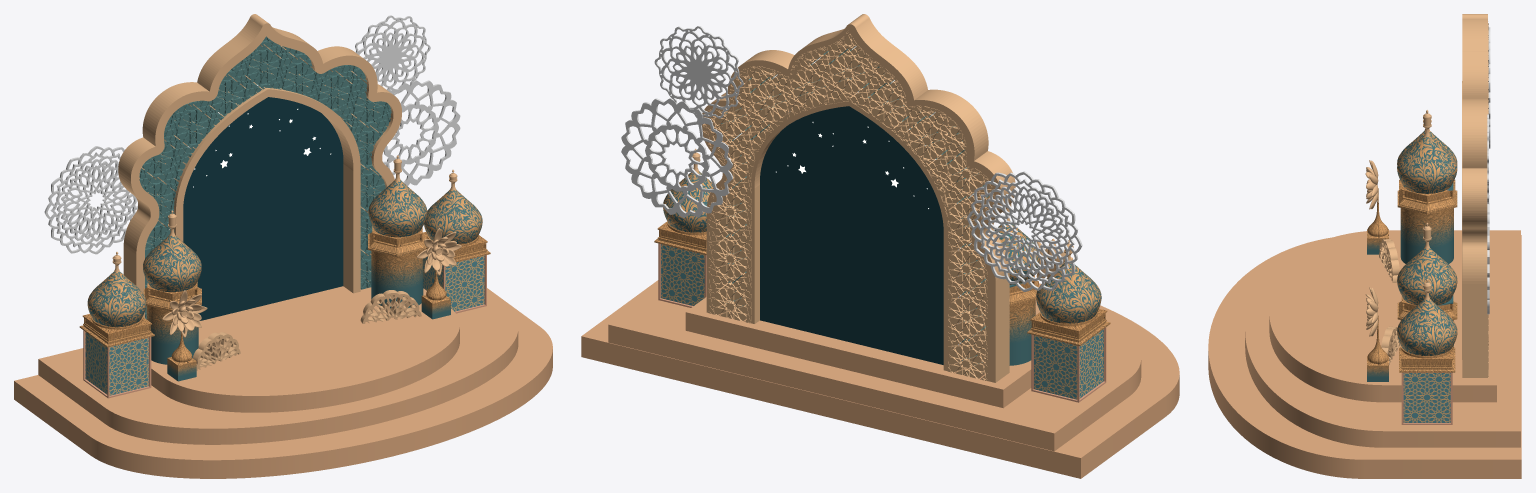
Rendered from ramadan_stage.glb.
3 renders of one model, left to right at view 1: azimuth 30°, elevation 25°; view 2: azimuth 150°, elevation 25°; view 3: azimuth 270°, elevation 25°, orthographic. The views are drawn at different scales.
Parts seen in each view (by area): view 1: Object_23, Circle.001_13, Circle.008_25, Circle.003_20, Object_14, Object_15, Plane.002_23, Object_16, Circle.002_19, Curve.006_10, Circle.004_17, Circle.006_21 (+5 smaller); view 2: Object_23, Circle.003_20, Object_17, Circle.008_25, Object_14, Object_18, Circle.001_13, Plane.002_23, Curve.006_10, Curve.007_11, Curve.009_12, Circle.006_21 (+3 smaller); view 3: Circle.003_20, Circle.001_13, Circle.008_25, Object_14, Circle.004_17, Circle.002_19, Plane.002_23, Circle.006_21, Plane.003_27, Curve.004_9, Object_43, Curve.007_11.
Part boxes in pixels (x1,y1,x2,y2): Object_23: (183, 97, 343, 320); Circle.001_13: (151, 280, 459, 412); Circle.008_25: (14, 288, 552, 478); Circle.003_20: (38, 295, 518, 444); Object_14: (118, 14, 401, 317); Object_15: (139, 36, 391, 319); Plane.002_23: (79, 232, 490, 398); Object_16: (140, 38, 391, 289); Circle.002_19: (143, 226, 426, 364); Curve.006_10: (44, 146, 137, 254); Circle.004_17: (143, 180, 427, 292); Circle.006_21: (87, 189, 482, 327); Object_23: (760, 106, 943, 364); Circle.003_20: (608, 288, 1141, 451); Object_17: (702, 32, 994, 379); Circle.008_25: (581, 280, 1179, 478); Object_14: (702, 14, 1015, 382); Object_18: (707, 43, 993, 380); Circle.001_13: (685, 286, 1039, 408); Plane.002_23: (654, 221, 1110, 402); Curve.006_10: (967, 171, 1082, 291); Curve.007_11: (621, 98, 732, 217); Curve.009_12: (654, 26, 743, 118); Circle.006_21: (663, 171, 1101, 323); Circle.003_20: (1245, 230, 1520, 447); Circle.001_13: (1269, 242, 1496, 402); Circle.008_25: (1208, 235, 1521, 478); Object_14: (1462, 14, 1487, 377); Circle.004_17: (1397, 135, 1457, 305); Circle.002_19: (1397, 182, 1457, 347); Plane.002_23: (1399, 179, 1455, 424); Circle.006_21: (1397, 131, 1457, 355); Plane.003_27: (1367, 188, 1388, 381); Curve.004_9: (1379, 238, 1400, 364); Object_43: (1365, 160, 1378, 336); Curve.007_11: (1487, 195, 1489, 314).
Size of the model in its own units: 5.81 by 4.23 by 3.42.
Materials: 15 (3 with a texture image).
